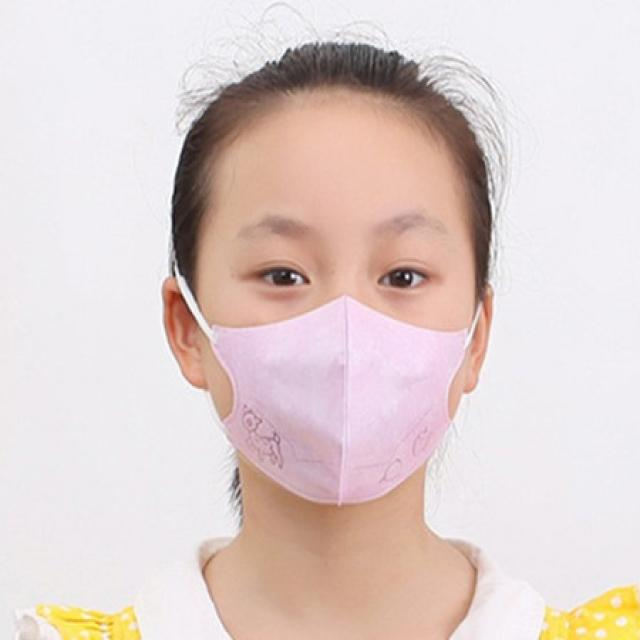mask: (206, 110, 474, 507)
